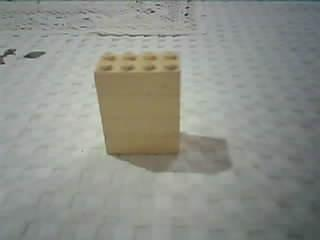lego: (91, 48, 184, 156)
